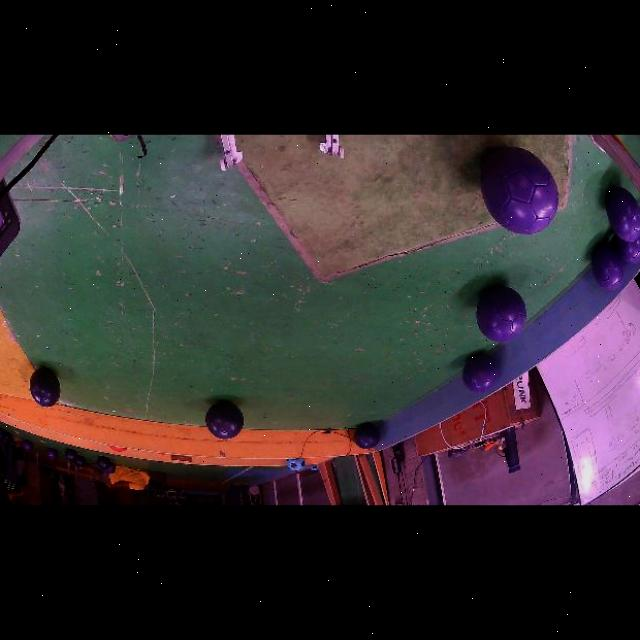B: (206, 401, 243, 438), (29, 367, 60, 407), (353, 423, 380, 449), (98, 456, 110, 470), (65, 449, 78, 461), (74, 455, 86, 468)
P: (481, 147, 558, 233), (477, 285, 526, 341), (606, 187, 640, 241), (592, 243, 624, 290), (463, 354, 499, 392), (616, 235, 640, 263)
